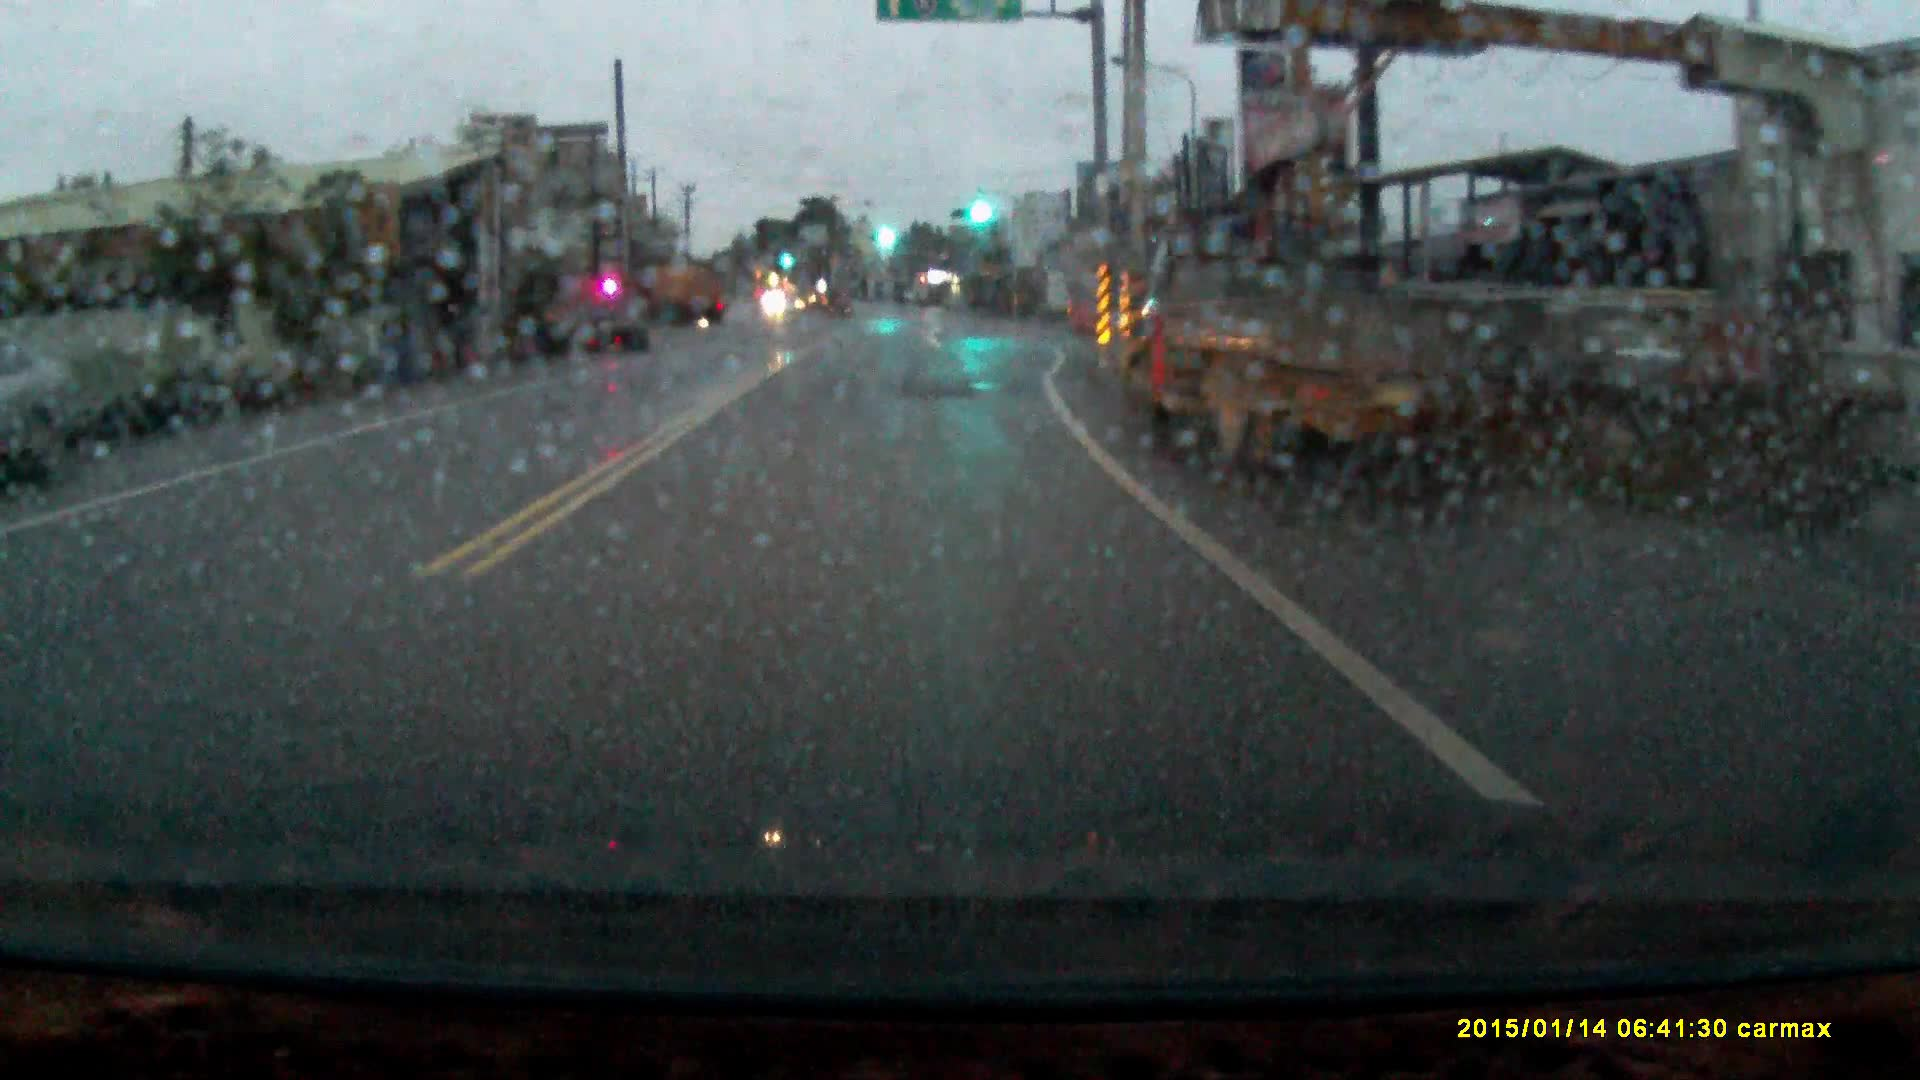vehicle: (1134, 210, 1561, 491), (629, 255, 723, 320)
